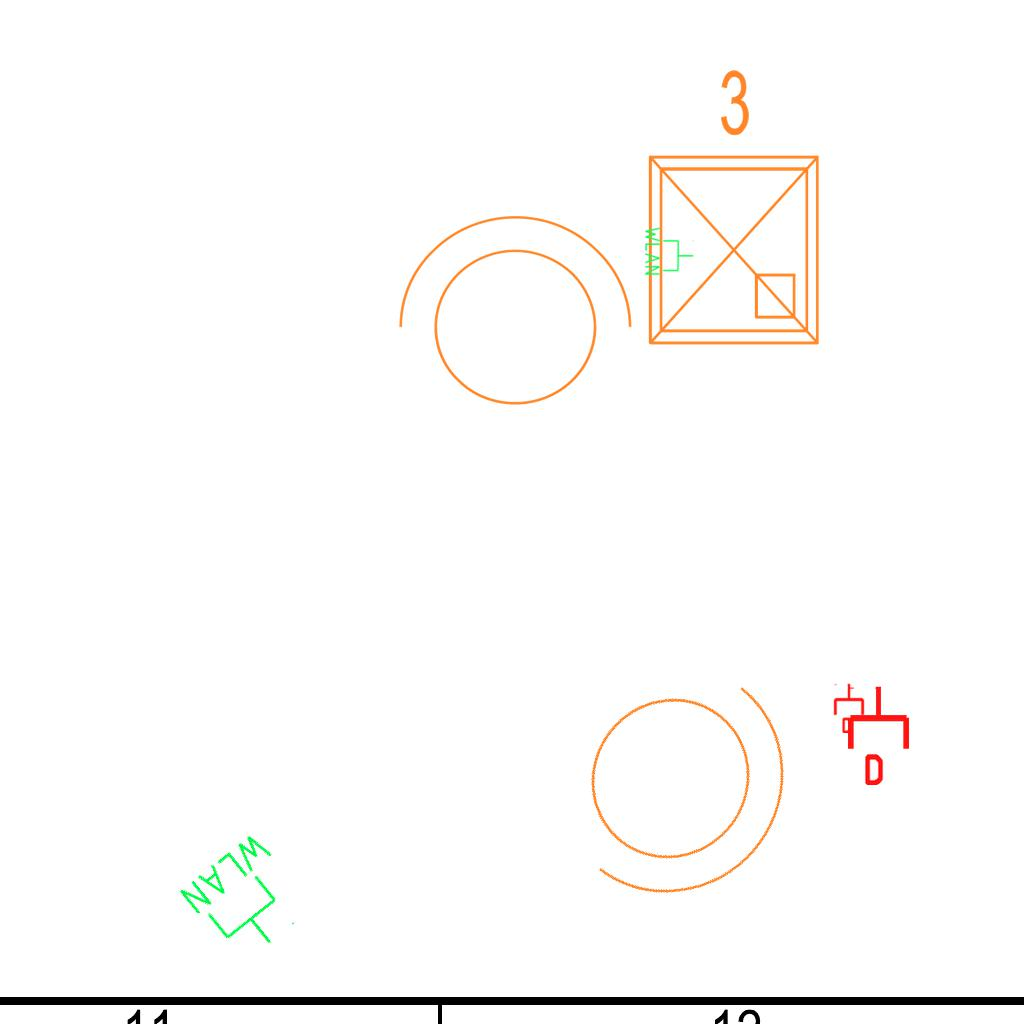Datenanschluss_einfach: (844, 685, 913, 785), (832, 683, 866, 733)
Einbaudownlights_LED_Konferenzraeume: (626, 59, 834, 359)
Scheinwerfer_fuer_Alarmbeleuchtung: (512, 606, 852, 953), (377, 205, 641, 430)
WLAN: (173, 825, 321, 972), (643, 225, 695, 277)
